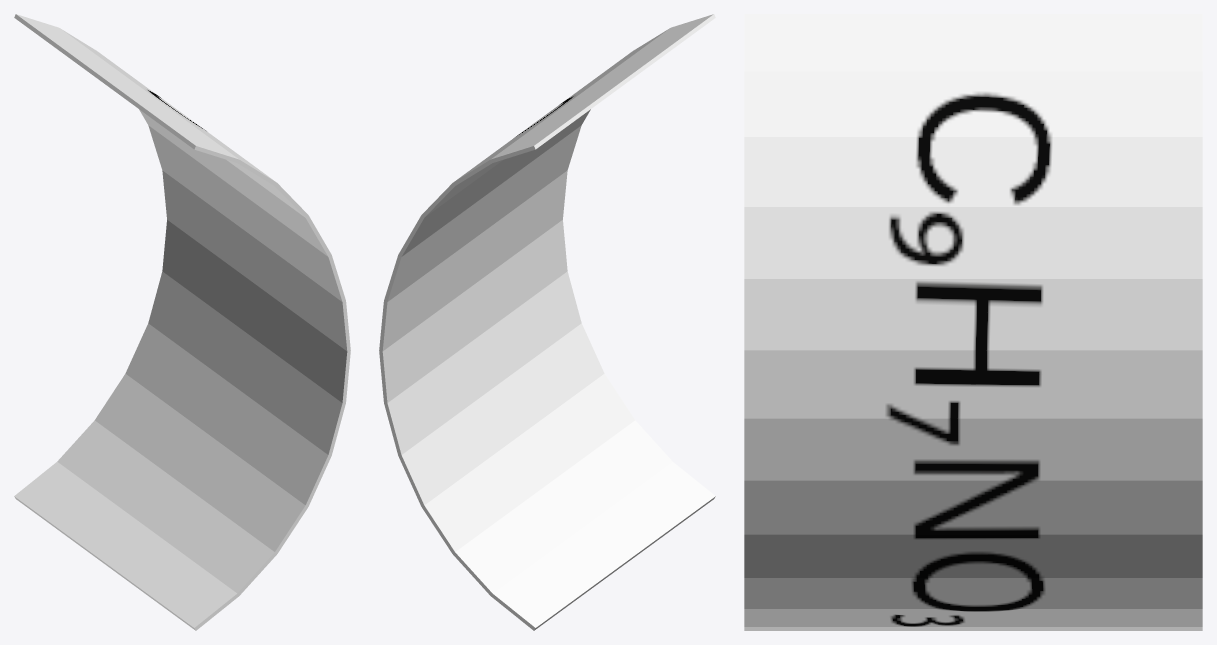
Rendered from 2-Nitrocinnamaldehyde etichetta.fbx.
3 renders of one model, left to right at view 1: azimuth 30°, elevation 25°; view 2: azimuth 150°, elevation 25°; view 3: azimuth 270°, elevation 25°, orthographic. The views are drawn at different scales.
Visible parts, largest first — view 1: Bottiglia base.001; view 2: Bottiglia base.001; view 3: Bottiglia base.001.
Boxes of the visible parts, x1,y1,x2,y2 form: Bottiglia base.001: (14,14,350,630); Bottiglia base.001: (379,14,715,630); Bottiglia base.001: (744,14,1202,630).
Size of the model in its own units: 4.37 by 12.94 by 8.72.
